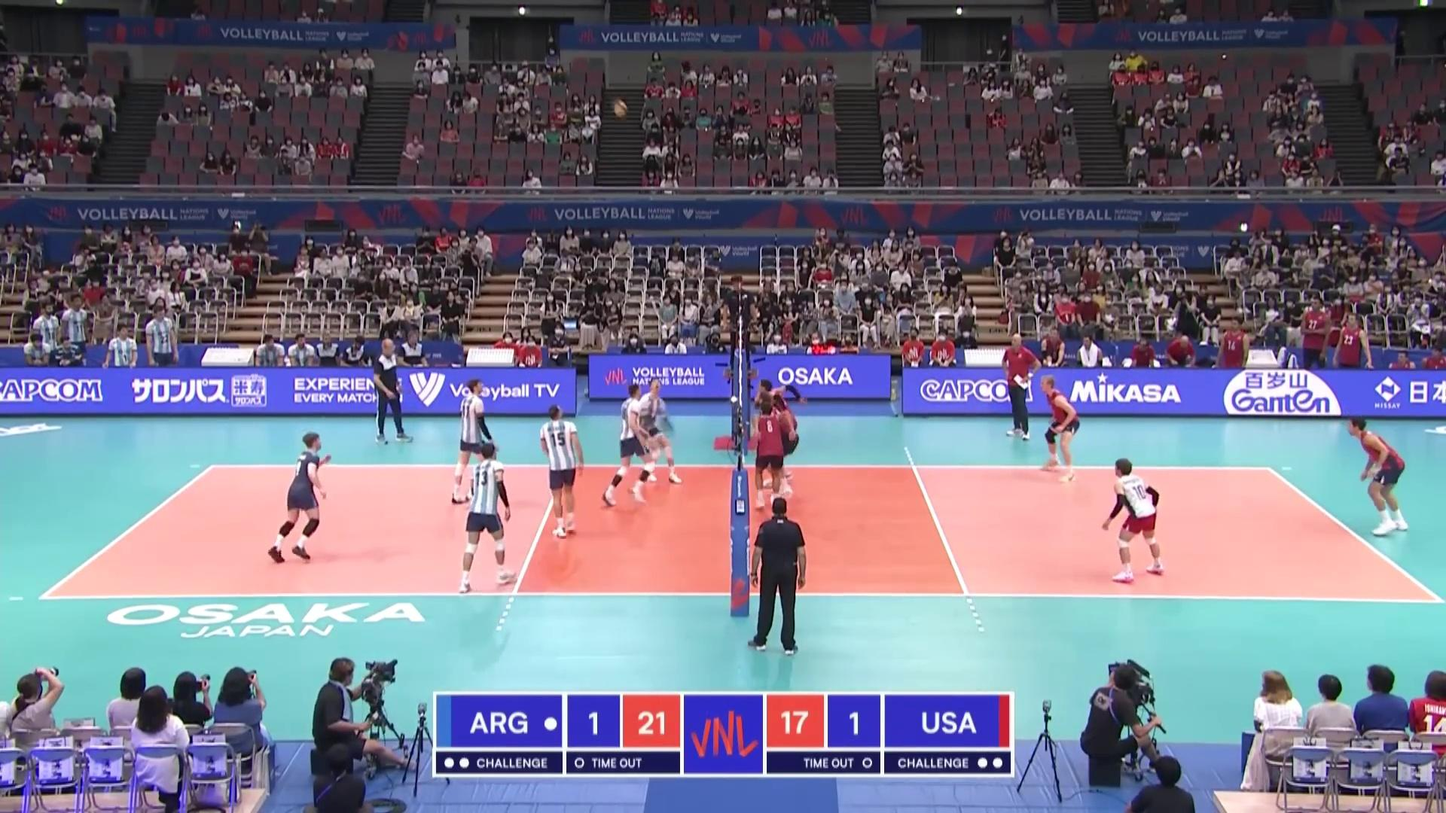player: (457, 444, 514, 593), (1101, 457, 1166, 586), (1346, 419, 1412, 536), (270, 433, 328, 562), (601, 382, 656, 512), (451, 379, 499, 505), (539, 406, 584, 539), (753, 392, 799, 501), (636, 381, 683, 485), (1037, 378, 1082, 485), (756, 379, 804, 479), (754, 401, 786, 511)
refree: (750, 498, 808, 655), (721, 273, 754, 374)
